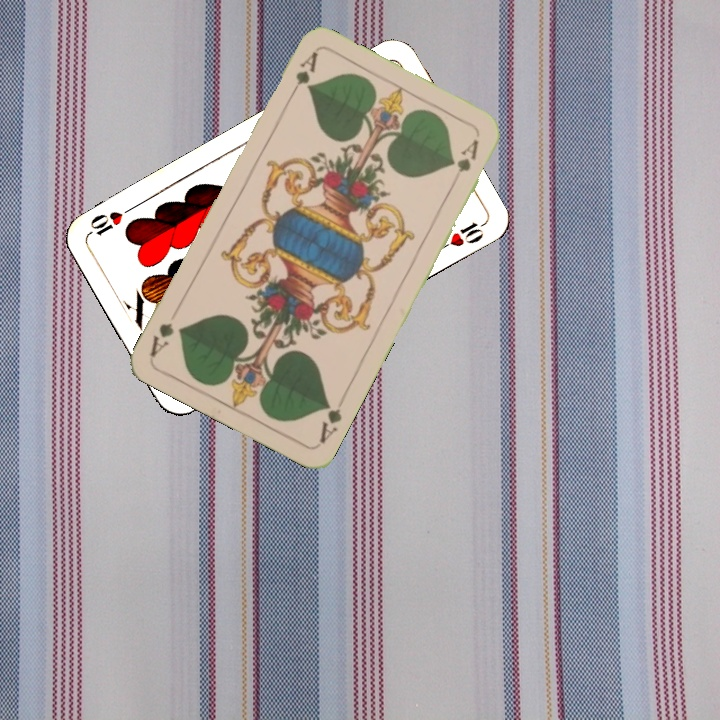GA: (285, 48, 321, 102), (315, 397, 345, 446)
